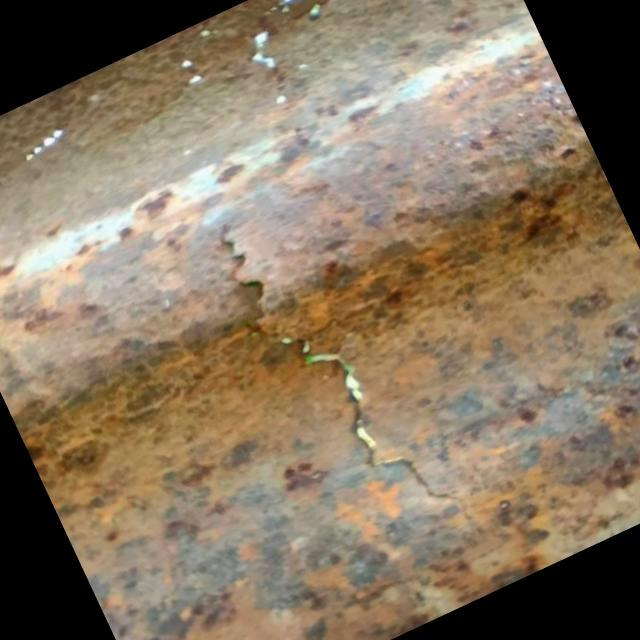defect: (213, 211, 508, 544)
